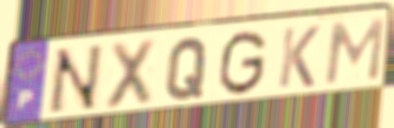G: (216, 28, 269, 98)
K: (275, 24, 322, 91)
M: (322, 16, 387, 87)
N: (43, 42, 106, 118)
Q: (163, 35, 211, 102)
X: (102, 36, 159, 113)
